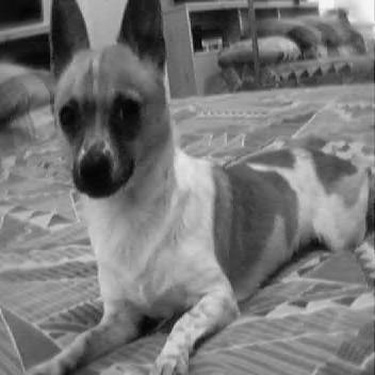dog: (21, 2, 371, 373)
